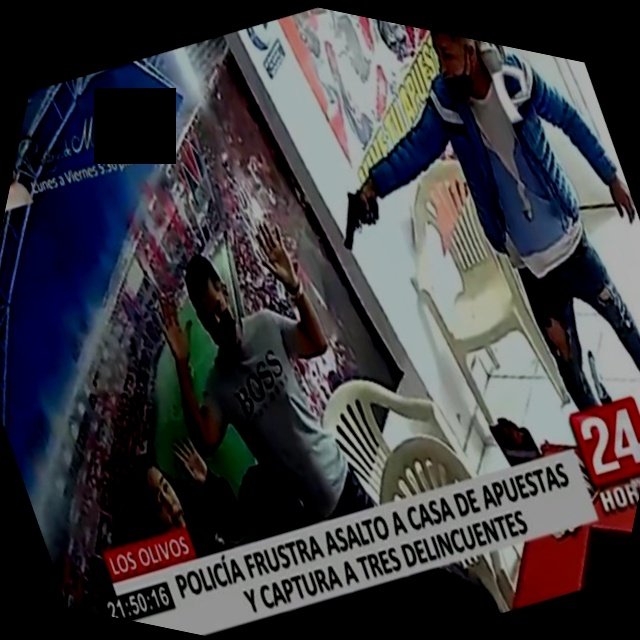gun: (300, 157, 411, 278)
